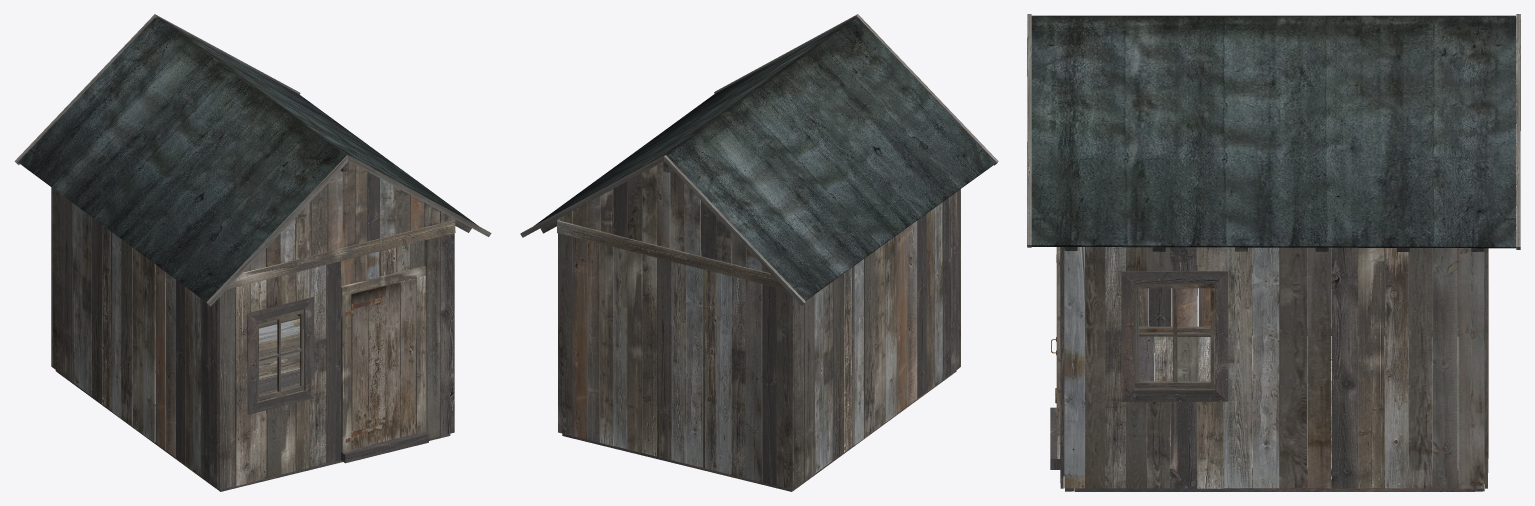
Rendered from chata_drevo.glb.
3 renders of one model, left to right at view 1: azimuth 30°, elevation 25°; view 2: azimuth 150°, elevation 25°; view 3: azimuth 270°, elevation 25°, orthographic. The views are drawn at different scales.
Parts seen in each view (by area): view 1: Base, Door; view 2: Base; view 3: Base.
Part boxes in pixels (<box>): Base: <box>14,14,491,491</box>; Door: <box>351,278,416,448</box>; Base: <box>520,14,998,491</box>; Base: <box>1027,14,1520,491</box>.
Bounding box in the file's own units: 3.92 × 4.2 × 4.63.
Materials: 1 (1 with a texture image).
